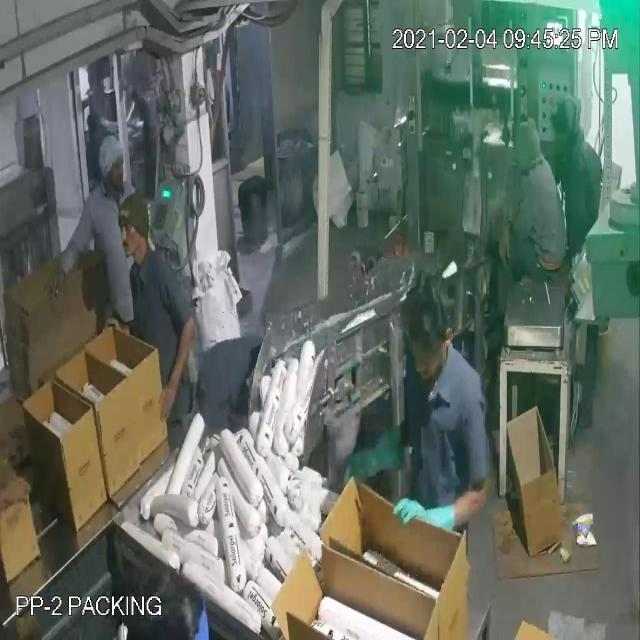No_Gloves: (20, 60, 504, 512)
